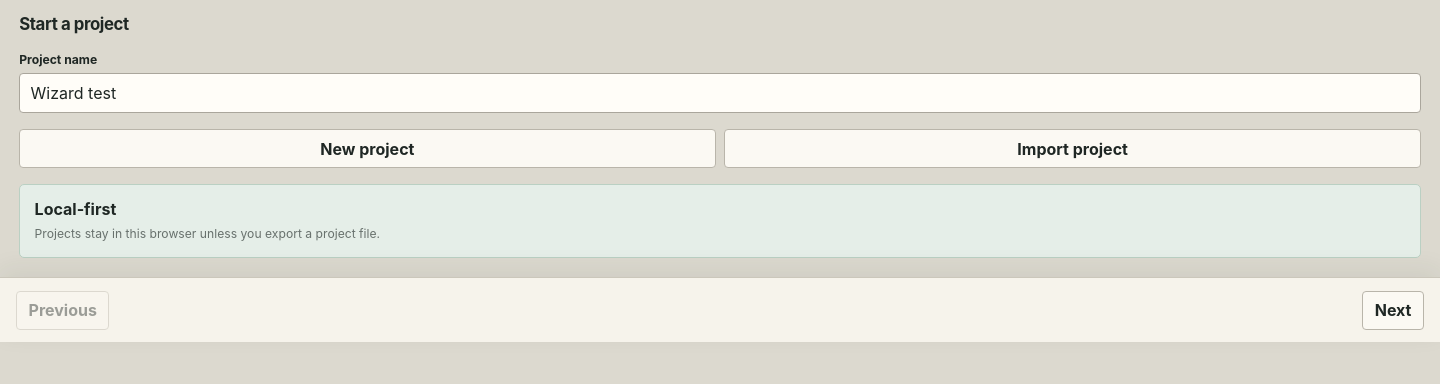
Test: wizard workflow › blocks Next when the project name is empty
Clear the field labelled "Project name" at (720, 93), box [19, 73, 1421, 113]
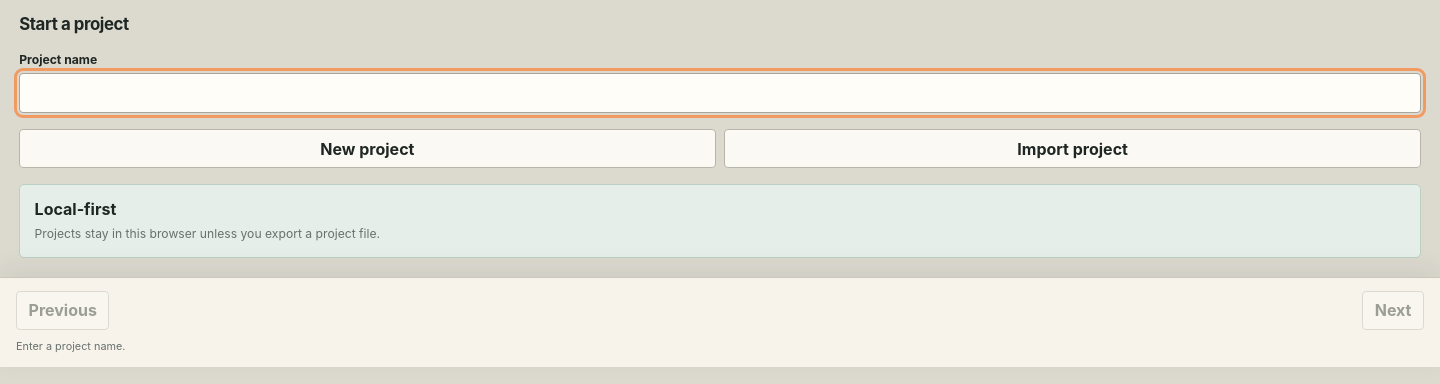
Check: the button "Next" is disabled, box [1362, 291, 1424, 330]
